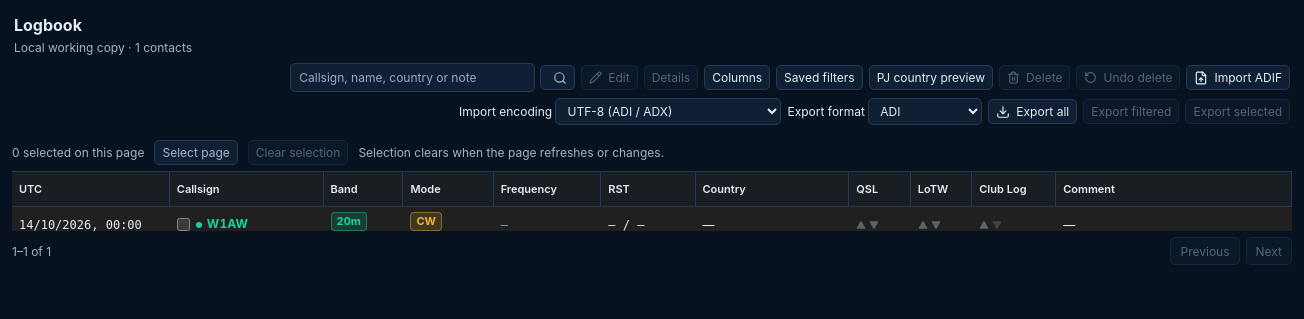
it: saves native filtered as adi through the chooser without a browser download
Expected: the text "W1AW" is shown, [170, 207, 324, 231]
Select "ADI" in the dropdown labelled "Export format" at [925, 112], box [868, 98, 982, 125]
Type "W1AW" into the field named "Search logbook".
click(413, 78); type("W1AW")  # box [290, 63, 535, 92]
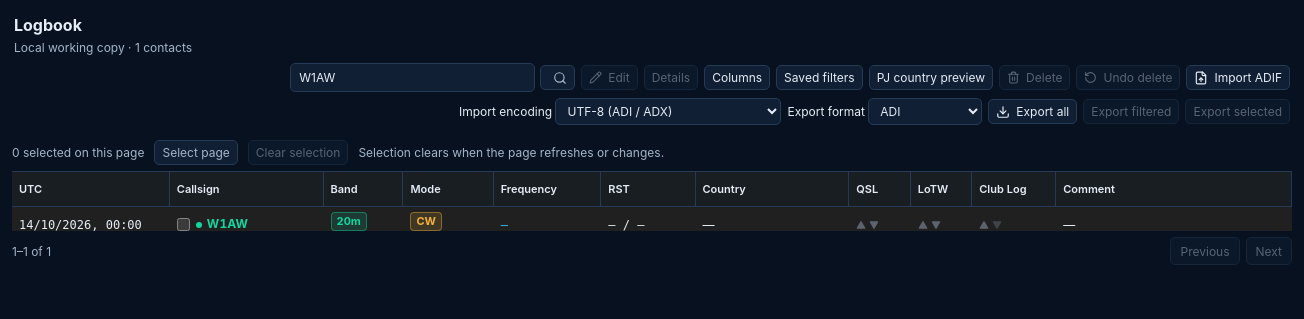
Click the button named "Search".
click(558, 78)  # box [540, 65, 575, 90]
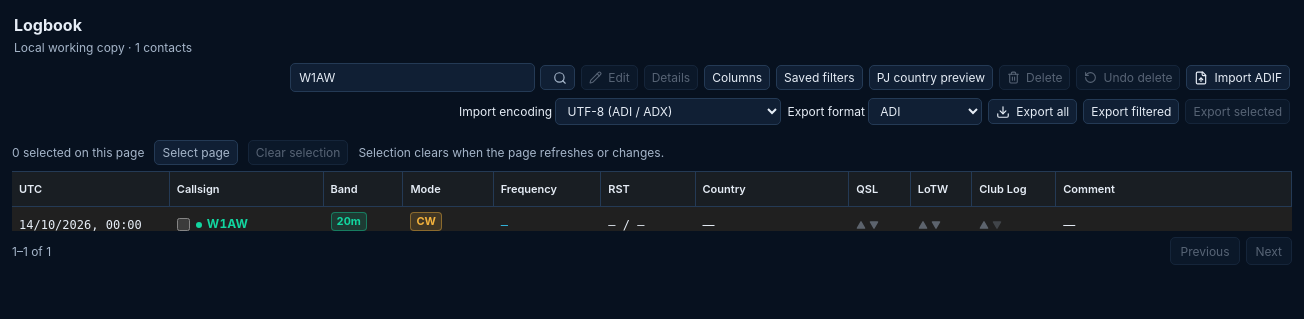
Now the button "Export filtered" is enabled
Click the button "Export filtered".
click(1131, 112)  # box [1083, 99, 1179, 124]
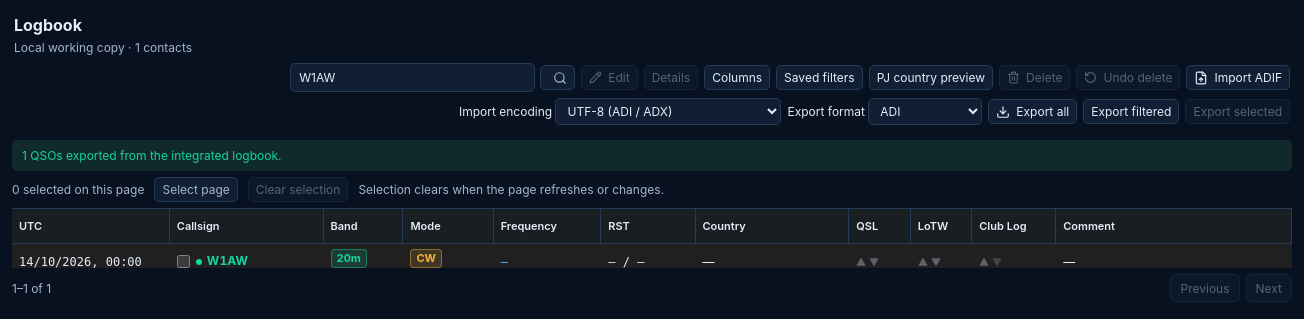
Now the text "1 QSOs exported from the integrated logbook." is shown, box [12, 140, 1292, 171]
